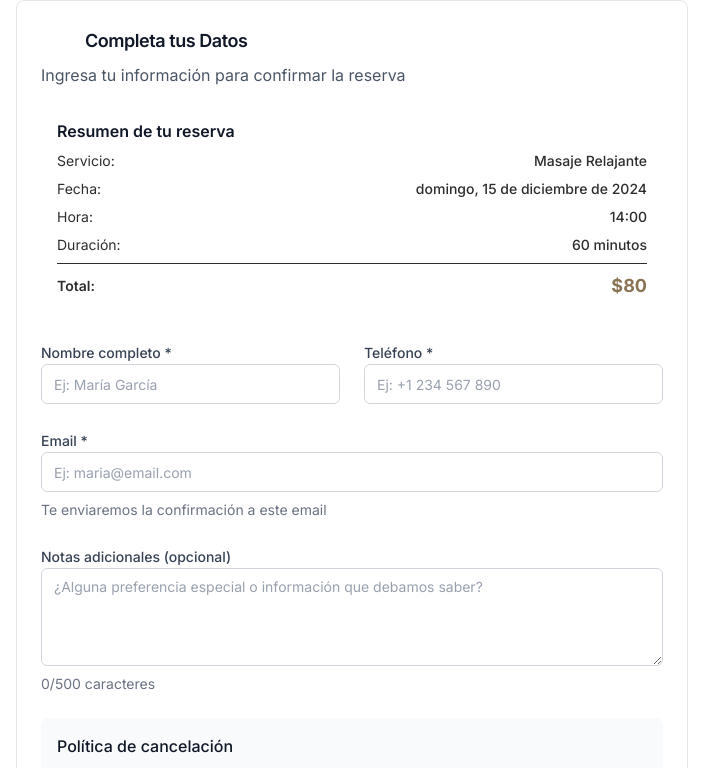
Test: BookingForm Component › shows character count for notes field
Type "Test notes" into the text box labelled "Notas adicionales (opcional)" at (352, 617), box [41, 568, 663, 666]
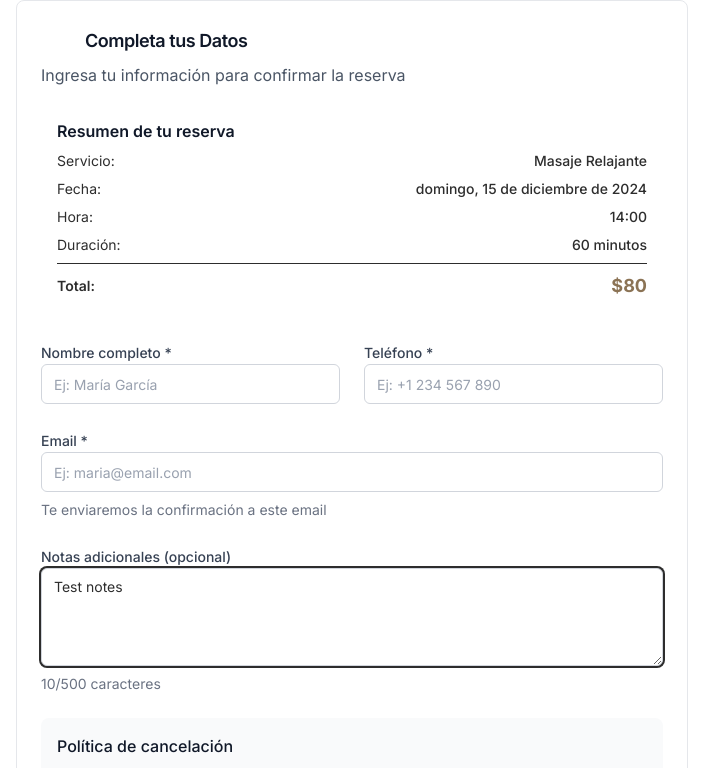
Now the text "10/500 caracteres" is shown, box [41, 675, 161, 692]
